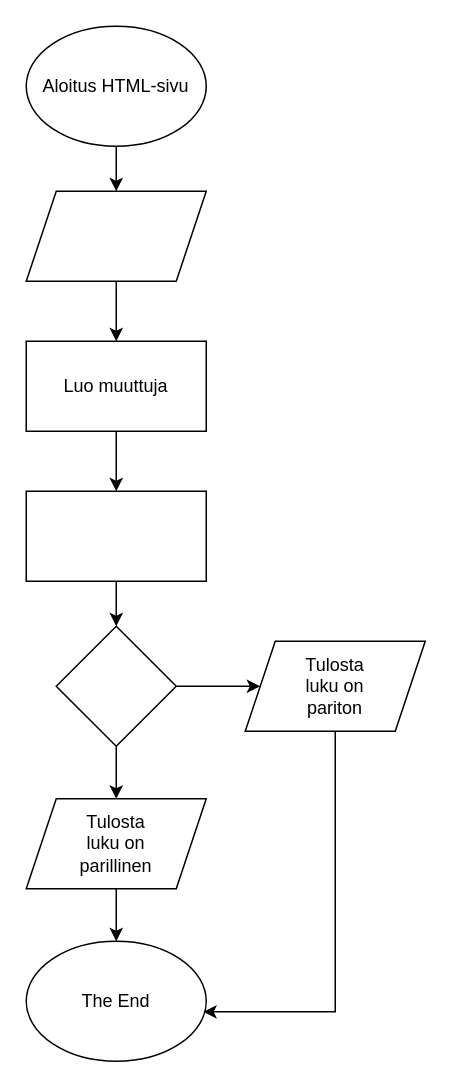
This 452x1088 diagram has some shape labels left out. Each missing label, with the centre of its shape:
Lue muuttujaan käyttäjän luku: (x=115, y=535)
Onko muuttuja parillinen vai pariton: (x=115, y=685)
Pyydä käyttäjältä luku: (x=115, y=235)
